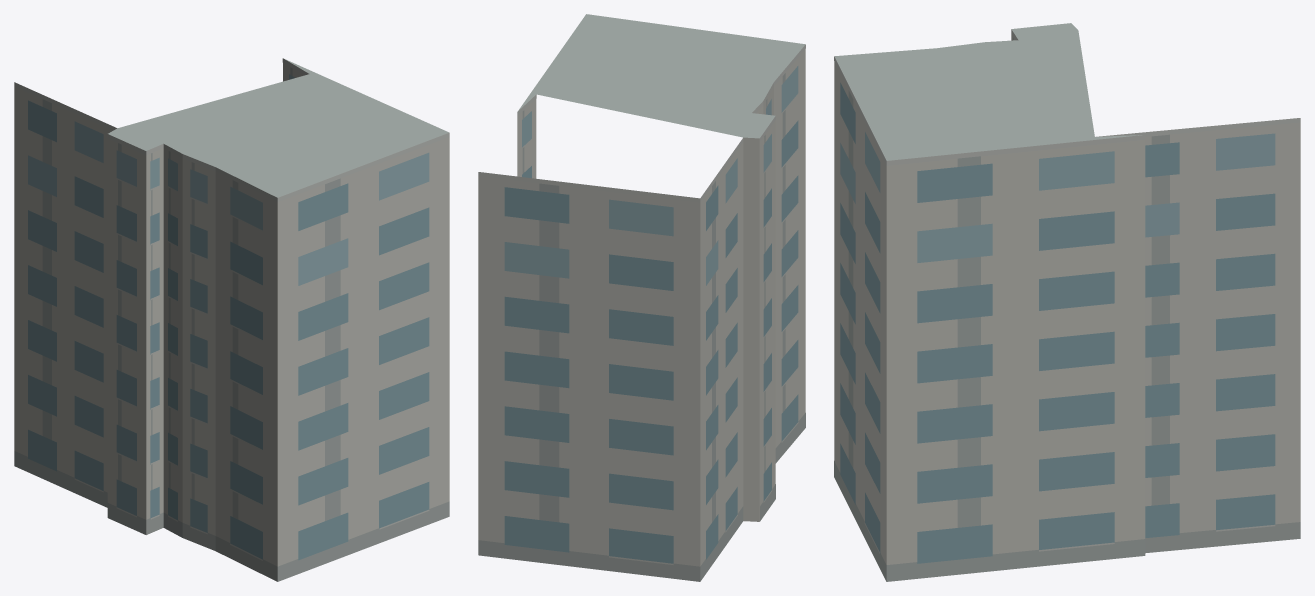
Rendered from survey-upis-33015721.glb.
3 views of the same model, side by side, from view 1: azimuth 30°, elevation 25°; view 2: azimuth 150°, elevation 25°; view 3: azimuth 270°, elevation 25° (orthographic). The views are drawn at different scales.
Visible parts, largest first — view 1: survey-upis-33015721.tmp; view 2: survey-upis-33015721.tmp; view 3: survey-upis-33015721.tmp.
Part boxes in pixels (<box>): survey-upis-33015721.tmp: <box>14,58,449,581</box>; survey-upis-33015721.tmp: <box>478,14,805,581</box>; survey-upis-33015721.tmp: <box>834,23,1300,581</box>.
Size of the model in its own units: 15.99 by 21.35 by 21.46.
